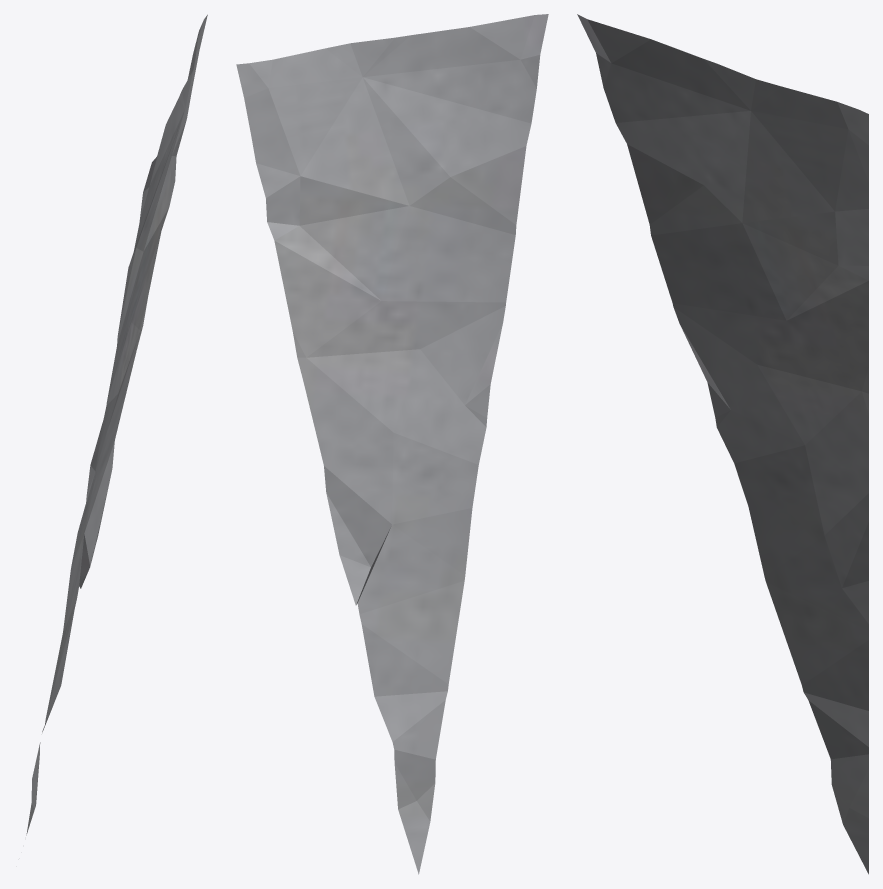
3 renders of one model, left to right at view 1: azimuth 30°, elevation 25°; view 2: azimuth 150°, elevation 25°; view 3: azimuth 270°, elevation 25°, orthographic. The views are drawn at different scales.
Size of the model in its own units: 0.1092 by 0.4378 by 0.1345.
Materials: 1 (1 with a texture image).
